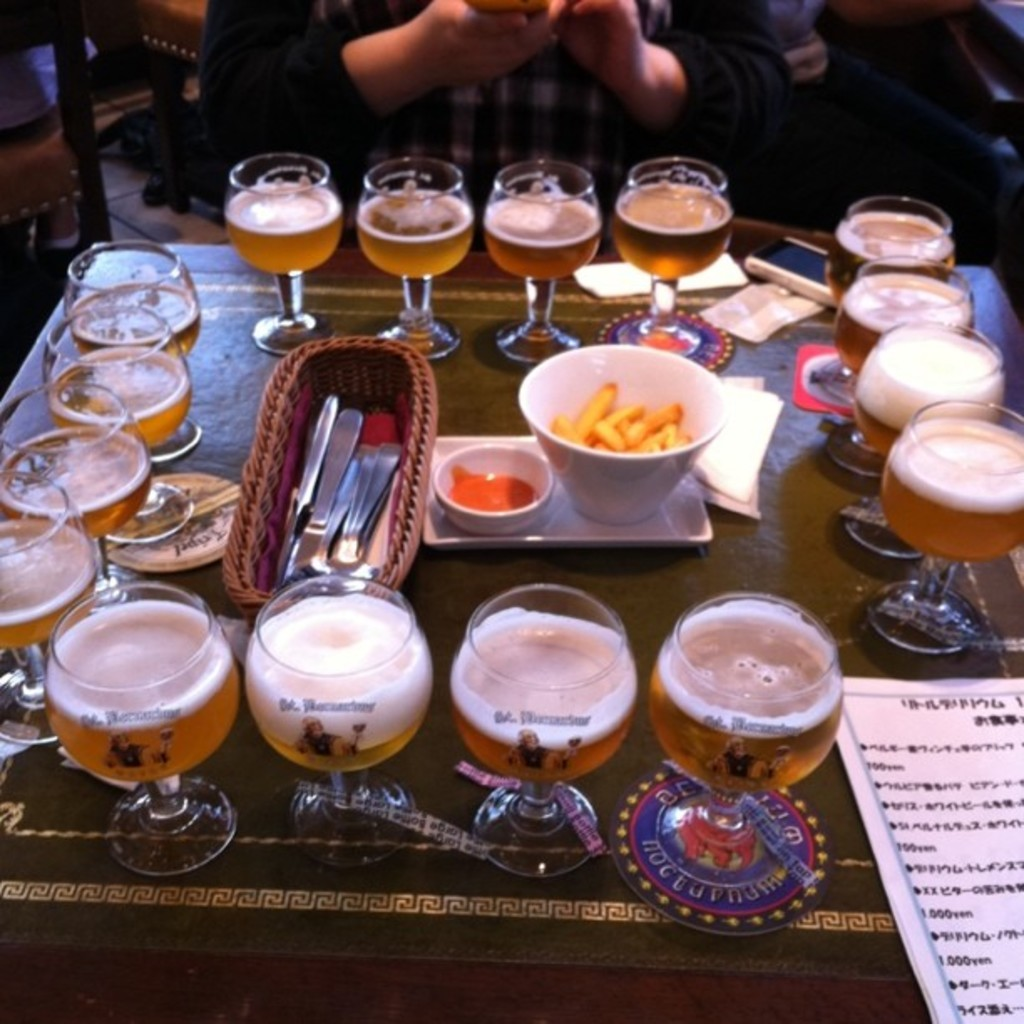French fries: (612, 393, 686, 448), (582, 424, 689, 456), (578, 399, 642, 443), (572, 376, 620, 431), (557, 409, 585, 448)
